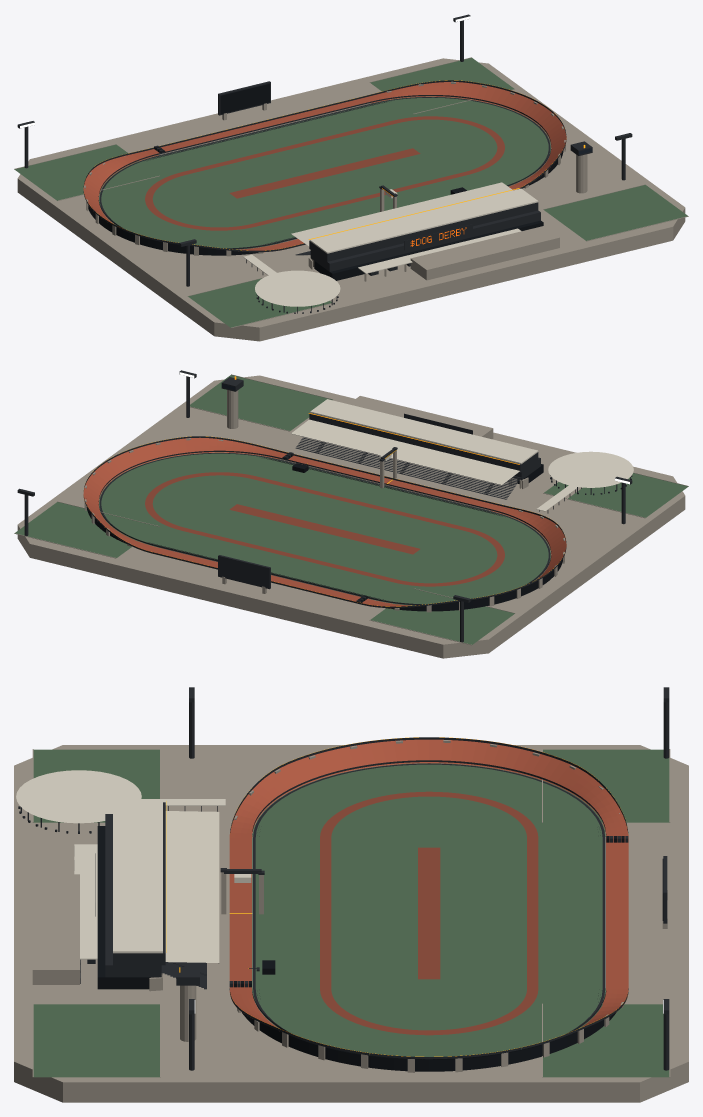
Rendered from dog-derby-base.glb.
The picture shows the model from 3 angles, top to bottom: view 1: azimuth 30°, elevation 25°; view 2: azimuth 150°, elevation 25°; view 3: azimuth 270°, elevation 25°; orthographic projection. The views are drawn at different scales.
Parts seen in each view (by area): view 1: DERBY_BASE; view 2: DERBY_BASE; view 3: DERBY_BASE.
Part boxes in pixels (<box>): DERBY_BASE: <box>14,14,688,341</box>; DERBY_BASE: <box>14,370,688,658</box>; DERBY_BASE: <box>14,687,688,1102</box>.
Bounding box in the file's own units: 424 × 53.39 × 358.
